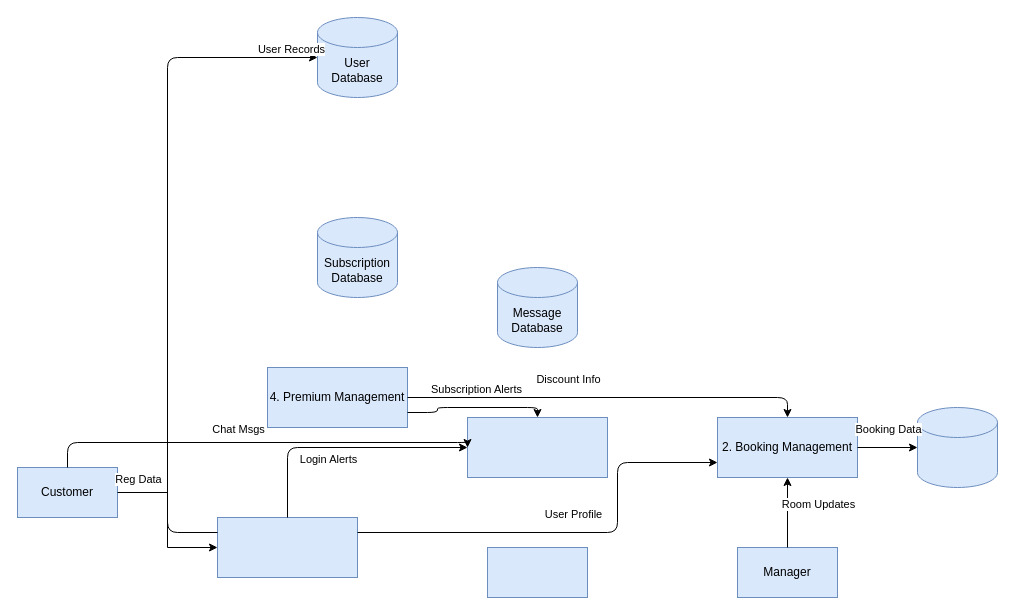
The diagram is 1015 pixels wide and 615 high, and some of its shapes have lost their labels. The shapes that lost their labels are listed below. From the top down, each one's centre as x and y in pixels, then its label:
the point at 537,447: 3. Chat & Notifications Management
the point at 957,447: Booking Database
the point at 287,547: 1. User Registration & Login
the point at 537,572: Admin
